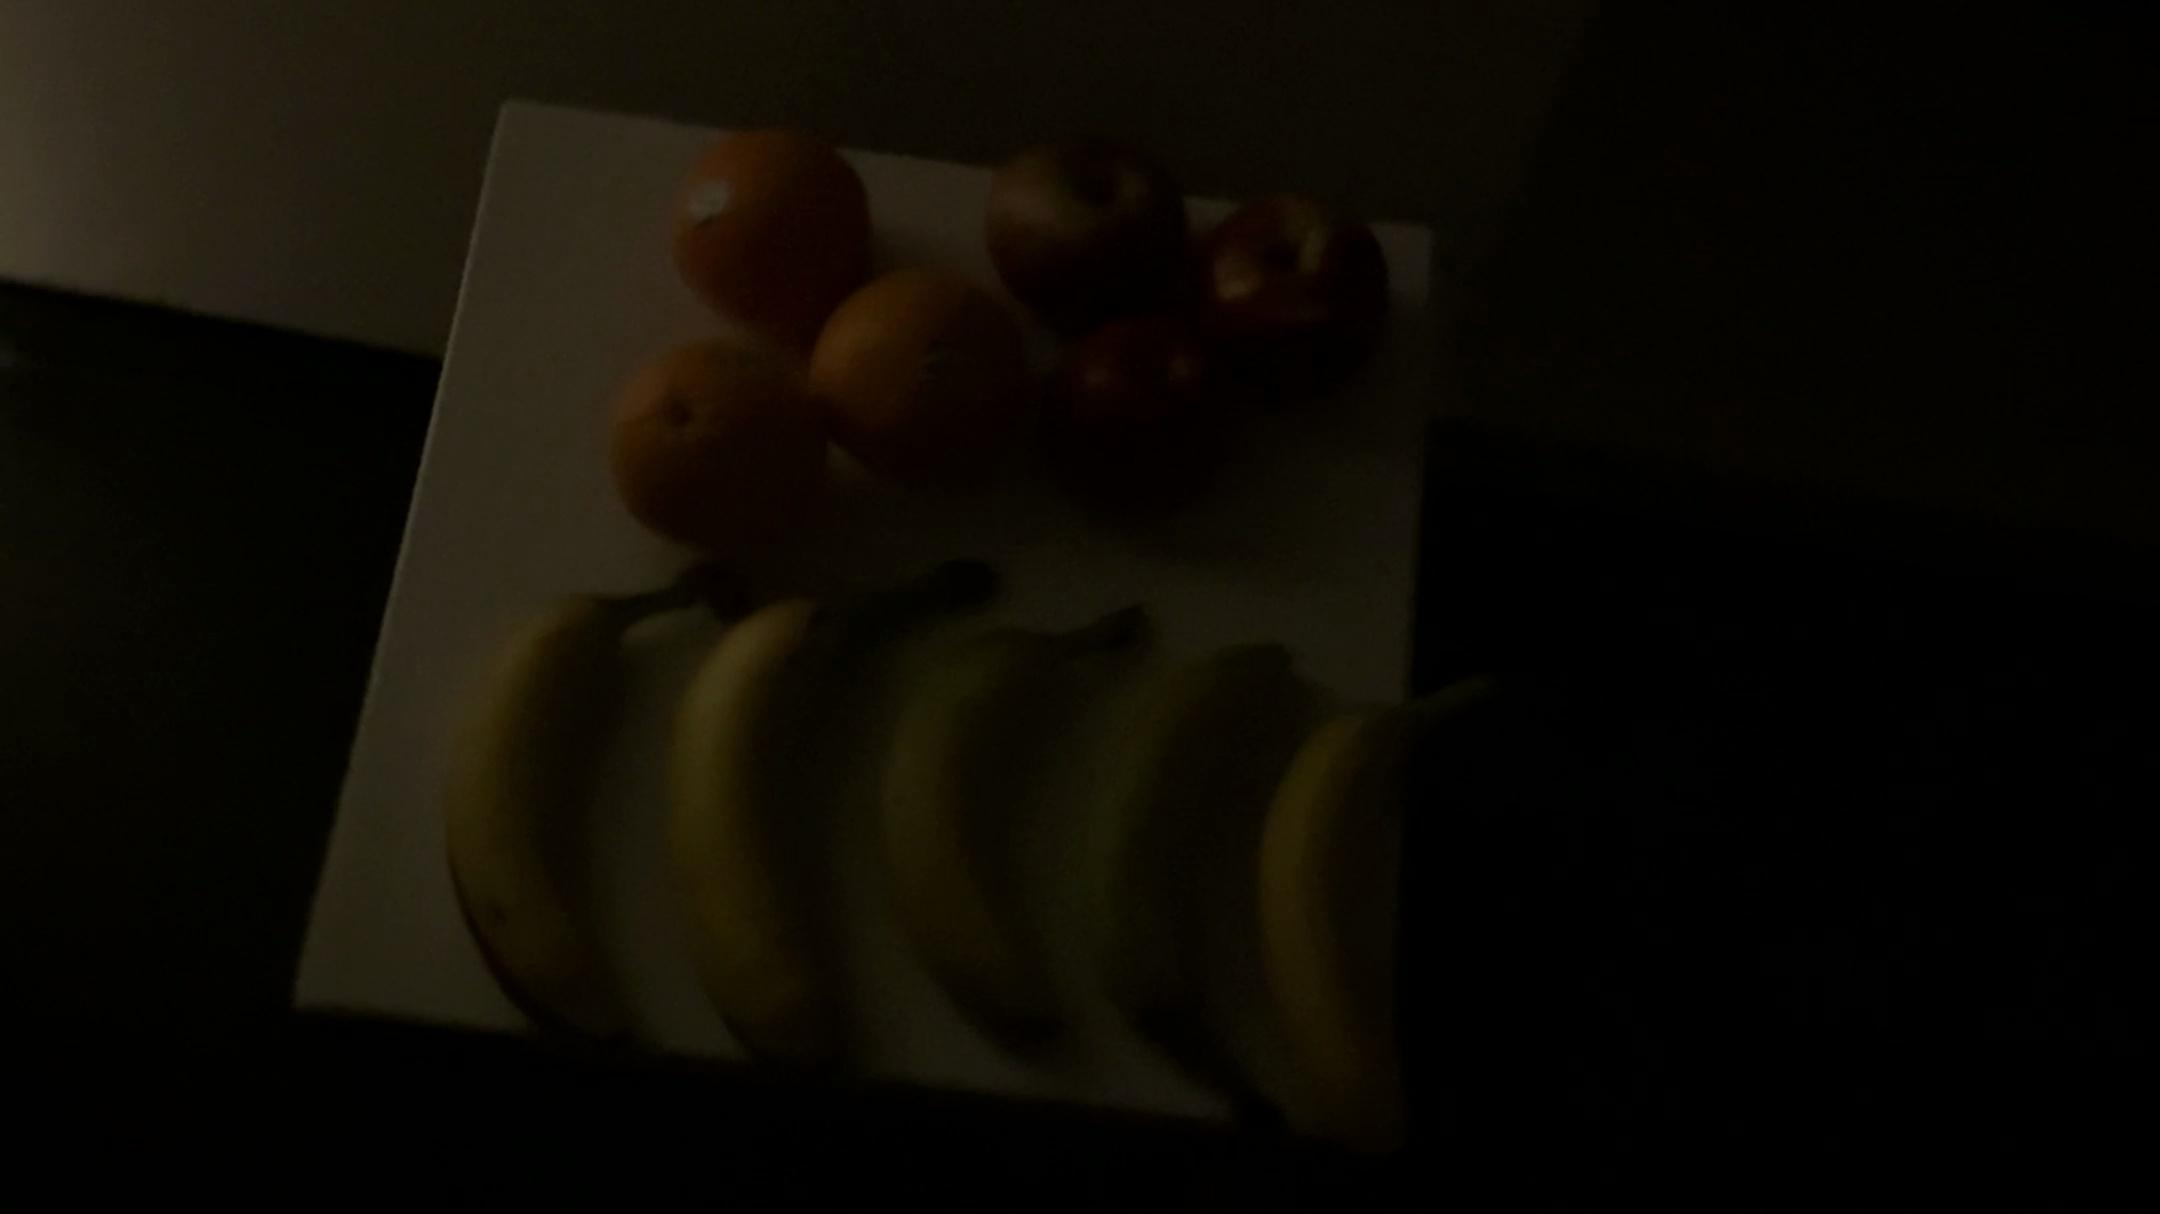apple: (1162, 175, 1420, 413), (975, 105, 1206, 334), (1024, 303, 1262, 522)
banana: (438, 555, 724, 1057), (656, 539, 918, 1063), (889, 571, 1156, 1079), (1255, 671, 1458, 1180), (1099, 608, 1300, 1109)
orange: (651, 111, 880, 327), (803, 252, 1007, 485), (605, 331, 810, 562)
